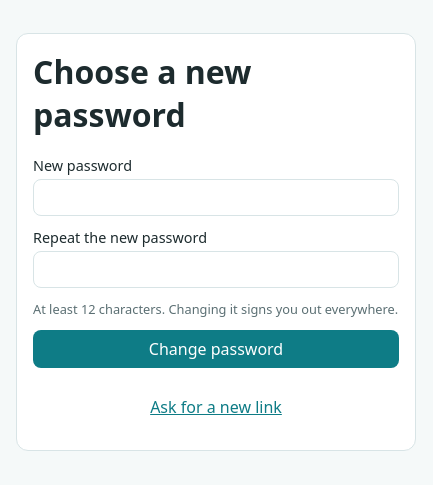
Test: ResetPasswordPage › does not send anything when the two passwords differ
The width and height of the screenshot is (433, 485).
Type "Brand-New-Passw0rd-1" into the password field labelled "New password". click: (216, 198)
box: [33,179,399,216]
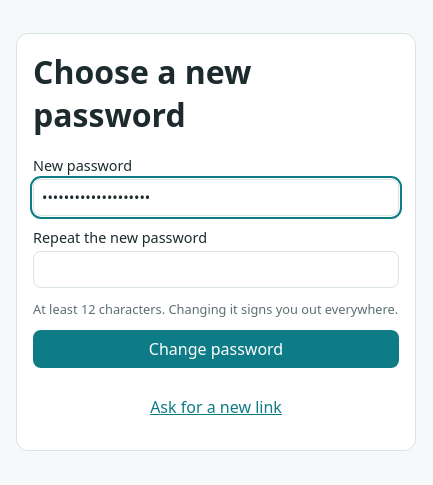
Type "Brand-New-Passw0rd-2" into the password field labelled "Repeat the new password". click: (216, 270)
box: [33,251,399,288]
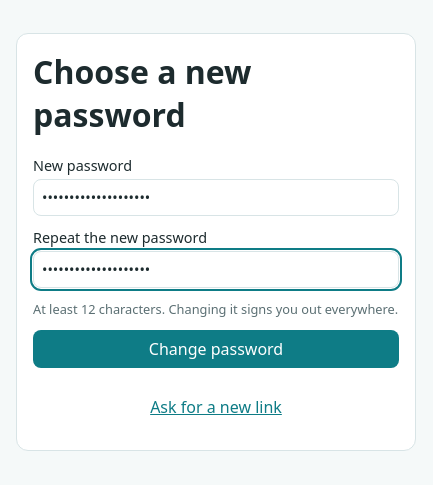
Click the button "Change password". click: (216, 349)
box: [33,330,399,368]
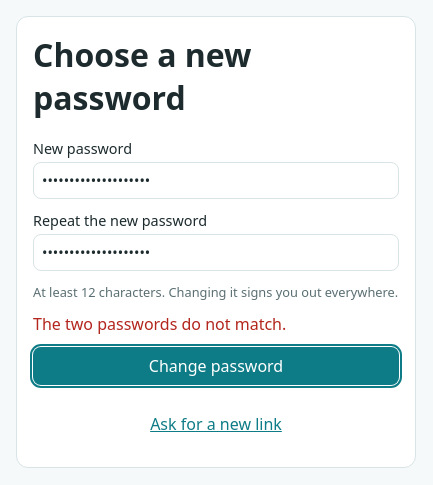
Expected: the message shows "do not match", [33,313,286,335]
